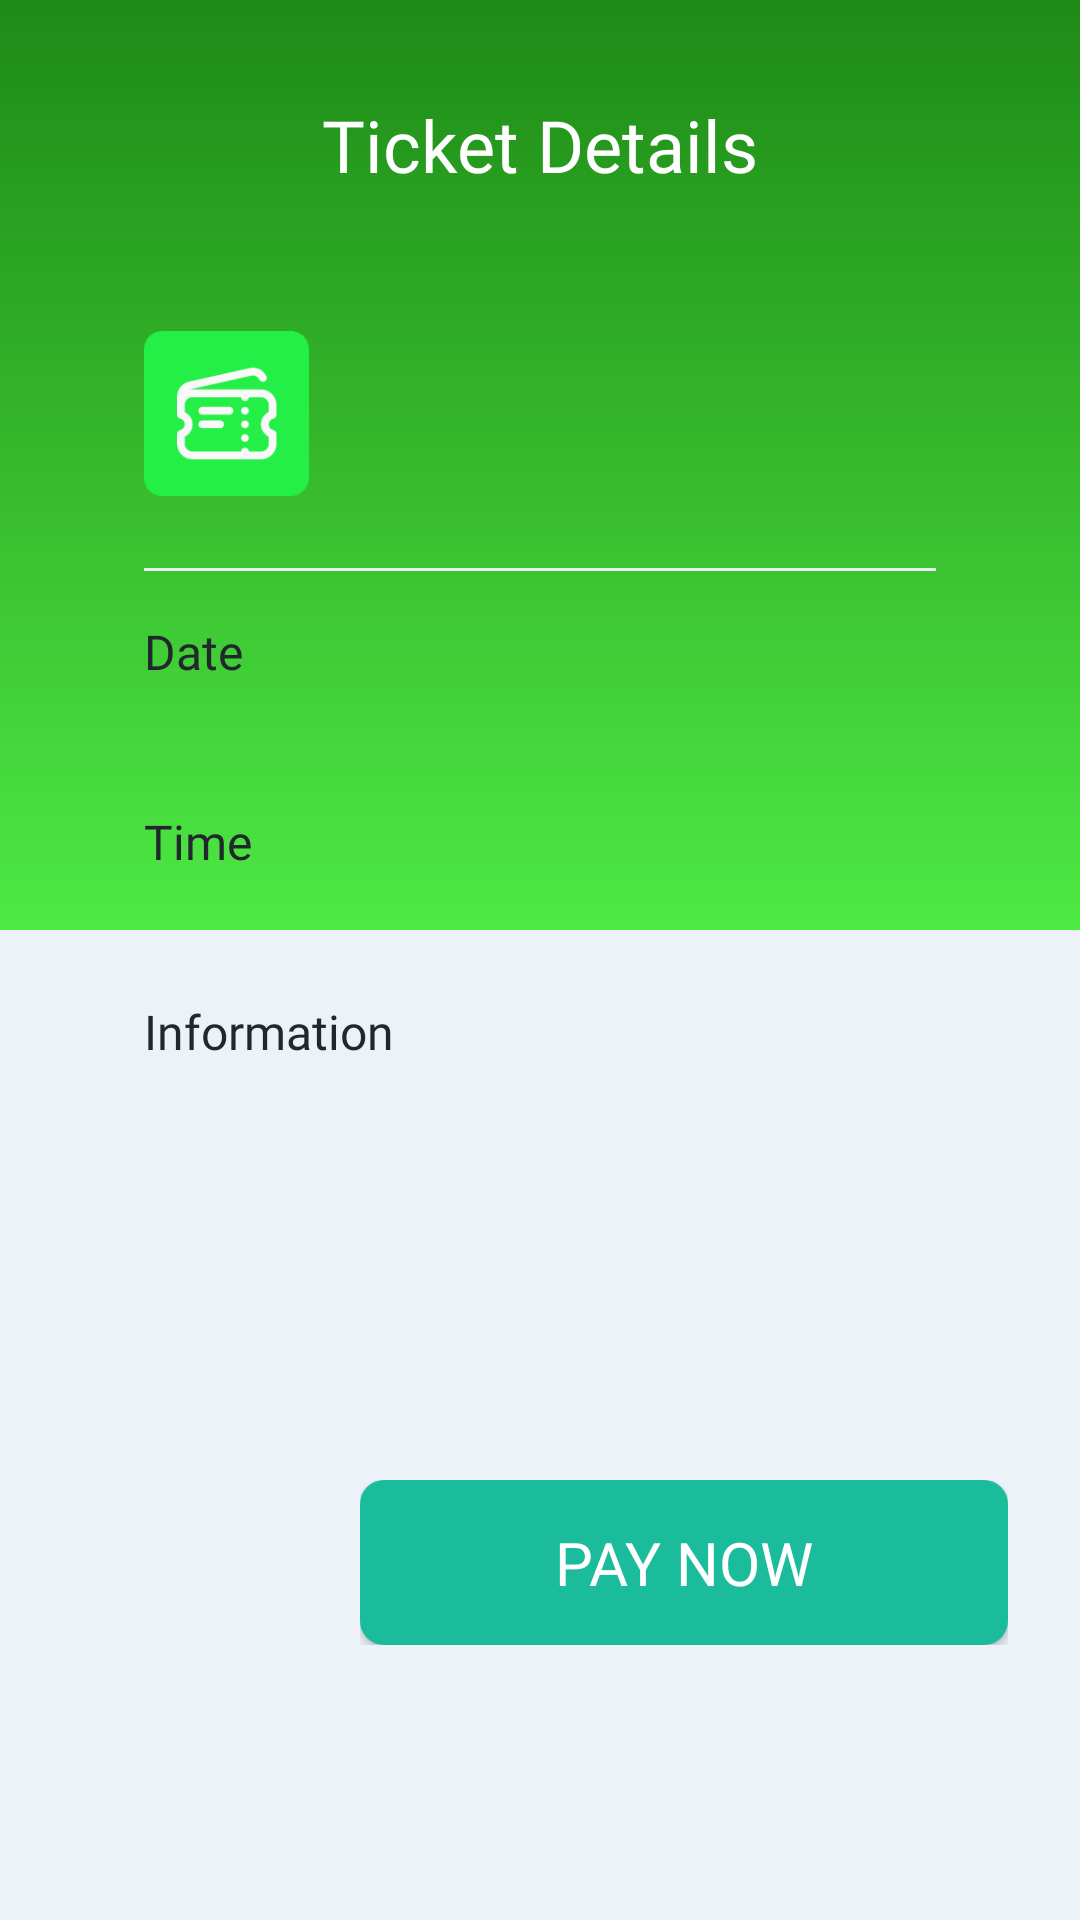

Screen size 1080×1920. Icon name, then its box in pixels as (x1, y1, x2, y2):
tiketicon: (144, 331, 309, 496)
